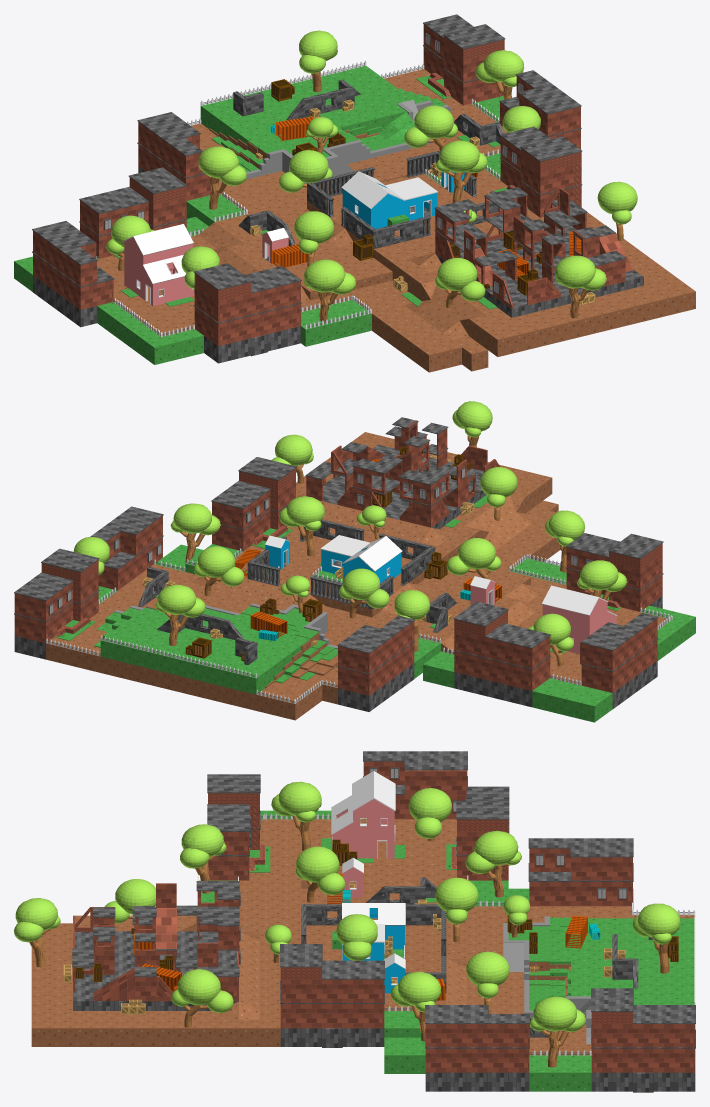
File: sigmacityfinal.glb
3 renders of one model, top to bottom at view 1: azimuth 30°, elevation 25°; view 2: azimuth 150°, elevation 25°; view 3: azimuth 270°, elevation 25°, orthographic. The views are drawn at different scales.
Visible parts, largest first — view 1: Tree.008, Tree.007, Tree, Tree.005, Tree2.001, Tree2.004, Tree2, Tree.001, Tree.003, Tree2.005, Tree2.002, Tree2.003 (+9 smaller); view 2: Tree.001, Tree.004, Tree2, Tree2.001, Tree2.002, Tree, Tree.006, Tree2.004, Tree.007, Tree.008, Tree2.005, Tree2.003 (+8 smaller); view 3: Tree2.005, Tree.005, Tree.003, Tree2.002, Tree.008, Tree.006, Tree.001, Tree.007, Tree.004, Tree2.003, Tree2, Tree2.001 (+33 smaller).
Part boxes in pixels (box(x1,y1,x2,y2)): Tree.008: box(555, 255, 606, 318); Tree.007: box(304, 259, 356, 321); Tree: box(436, 140, 487, 202); Tree.005: box(198, 146, 246, 209); Tree2.001: box(404, 105, 457, 151); Tree2.004: box(435, 258, 485, 307); Tree2: box(279, 150, 332, 192); Tree.001: box(299, 30, 337, 92); Tree.003: box(475, 50, 524, 99); Tree2.005: box(597, 181, 637, 240); Tree2.002: box(294, 211, 334, 266); Tree2.003: box(106, 215, 154, 270); Tree.001: box(155, 584, 205, 645); Tree.004: box(170, 503, 220, 562); Tree2: box(339, 568, 389, 618); Tree2.001: box(194, 546, 244, 596); Tree2.002: box(446, 538, 501, 579); Tree: box(279, 496, 324, 556); Tree.006: box(577, 560, 627, 600); Tree2.004: box(480, 467, 517, 521); Tree.007: box(545, 510, 584, 572); Tree.008: box(452, 401, 492, 447); Tree2.005: box(271, 434, 313, 483); Tree2.003: box(528, 613, 573, 666); Tree2.005: box(171, 969, 233, 1027); Tree.005: box(465, 830, 521, 897); Tree.003: box(529, 996, 586, 1067); Tree2.002: box(295, 846, 345, 902); Tree.008: box(14, 898, 60, 967); Tree.006: box(271, 781, 321, 850); Tree.001: box(632, 903, 680, 973); Tree.007: box(180, 824, 226, 893); Tree.004: box(390, 971, 440, 1041); Tree2.003: box(408, 788, 451, 841); Tree2: box(435, 877, 478, 942); Tree2.001: box(466, 951, 509, 1013).
Size of what is drawn, in the model's own units: 64.15 by 12.12 by 65.77.
24 materials, 7 textured.
